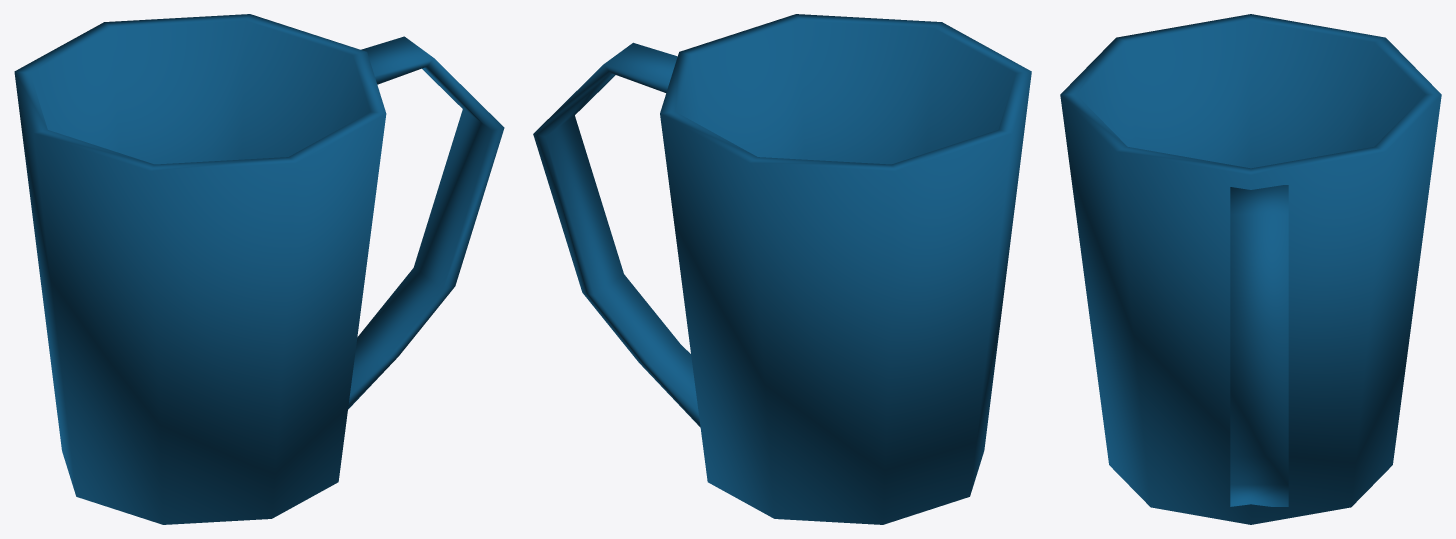
File: Xicara.fbx
3 views of the same model, side by side, from view 1: azimuth 30°, elevation 25°; view 2: azimuth 150°, elevation 25°; view 3: azimuth 270°, elevation 25° (orthographic).
Parts seen in each view (by area): view 1: Xicara; view 2: Xicara; view 3: Xicara.
Boxes of the visible parts, left/top/right/bottom form: Xicara: left=14, top=14, right=504, bottom=524; Xicara: left=533, top=14, right=1031, bottom=524; Xicara: left=1060, top=14, right=1441, bottom=524.
Bounding box in the file's own units: 6.81 × 5.29 × 4.94.
